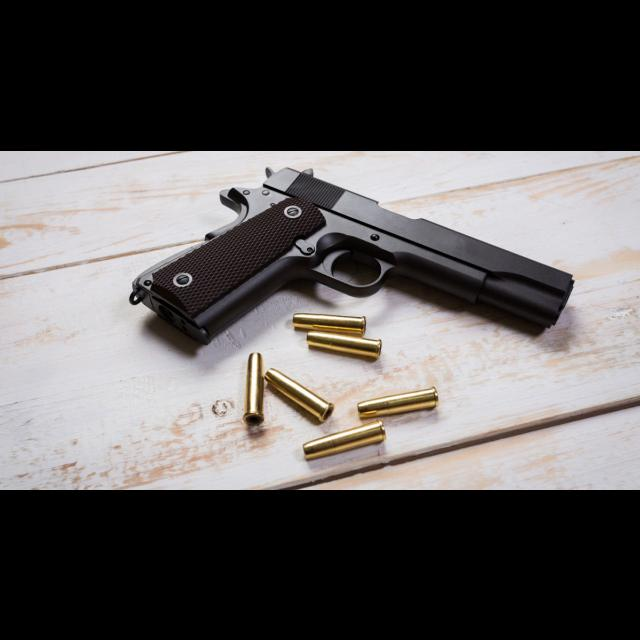handgun: (125, 159, 582, 351)
